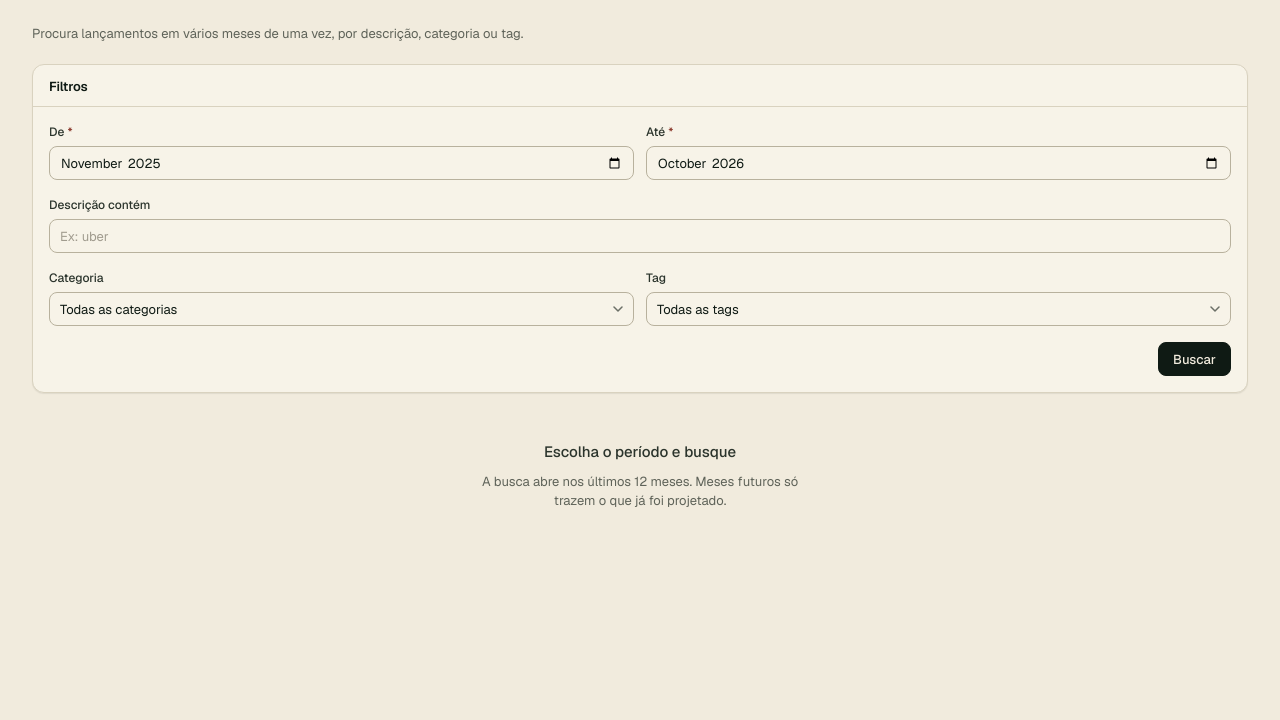
Scenario: BuscaPage — categoria arquivada (RF-CAT-02) › mostra o nome da categoria arquivada no resultado, com o selo
Click the button "Buscar".
click(1195, 359)  # box [1158,342,1231,376]
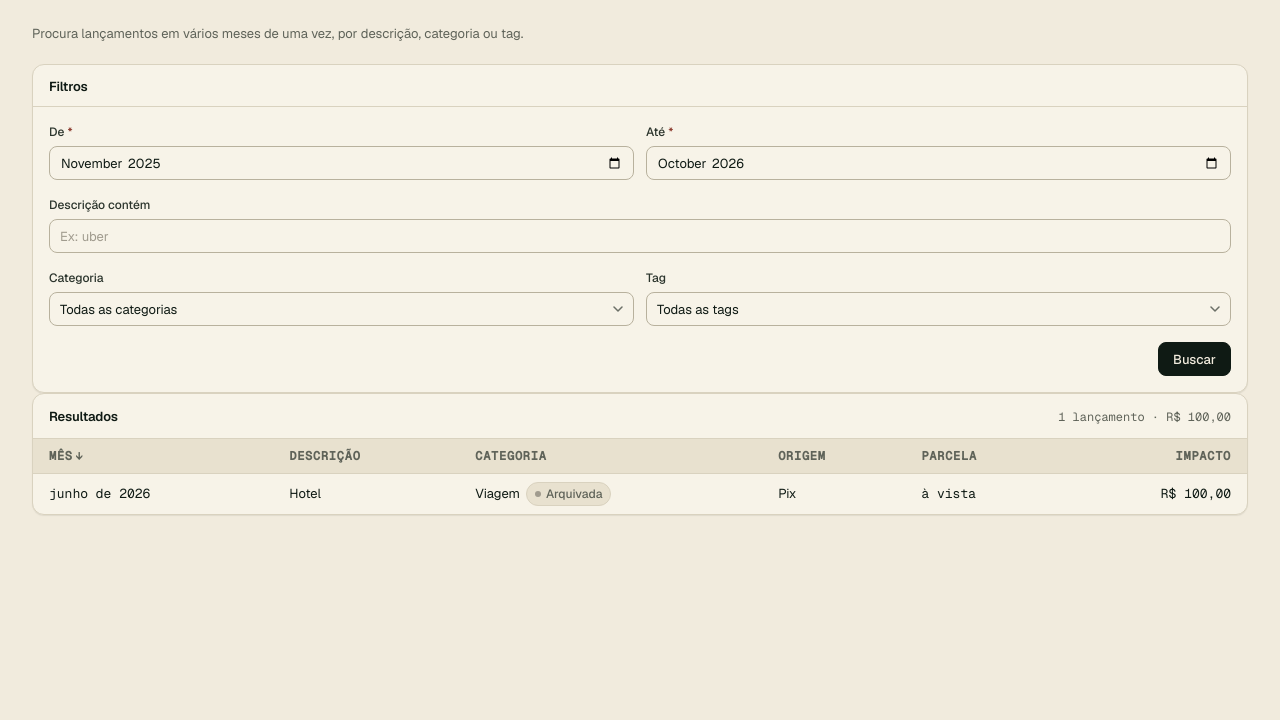
Result: the text "Viagem" is shown at [475,485,520,502]
Result: the text "Arquivada" is shown at [526,482,612,506]
